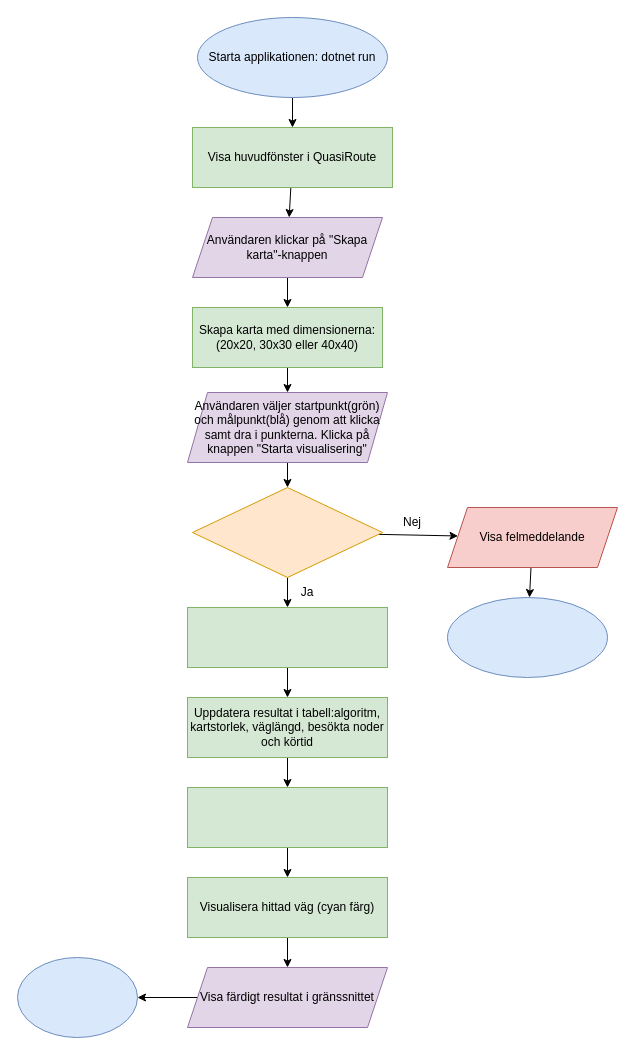
This 635x1055 diagram has some shape labels left out. Here are the shapes that lost their labels. From the top down, the centre of each, then its label:
At point (287, 532): "Är alla val giltiga? Karta, startpunkt, målpunkt och algoritm".
At point (287, 637): "Kör vald algoritm.".
At point (527, 637): "Gör giltiga val".
At point (287, 817): "Visualisera besökta noder (grå färg)".
At point (77, 997): "Gör ny sökning".
